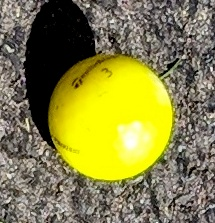ball: (47, 52, 175, 184)
